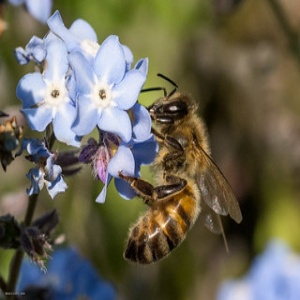bee: (128, 74, 244, 272)
